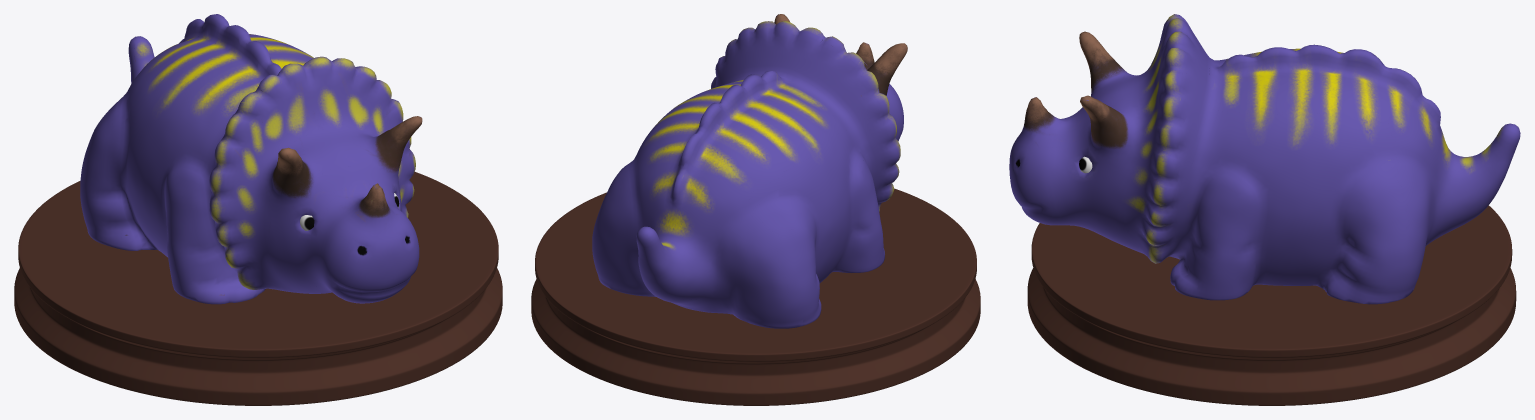
File: triceratops.fbx
3 renders of one model, left to right at view 1: azimuth 30°, elevation 25°; view 2: azimuth 150°, elevation 25°; view 3: azimuth 270°, elevation 25°, orthographic. The views are drawn at different scales.
Visible parts, largest first — view 1: TriceratopsLow2, Cylinder; view 2: TriceratopsLow2, Cylinder; view 3: TriceratopsLow2, Cylinder.
Boxes of the visible parts, x1,y1,x2,y2 form: TriceratopsLow2: (80,14,422,304); Cylinder: (14,172,502,405); TriceratopsLow2: (592,14,907,328); Cylinder: (531,188,980,405); TriceratopsLow2: (1009,14,1520,304); Cylinder: (1027,205,1516,405).
Size of the model in its own units: 668 by 417 by 698.
Materials: 3 (2 with a texture image).
